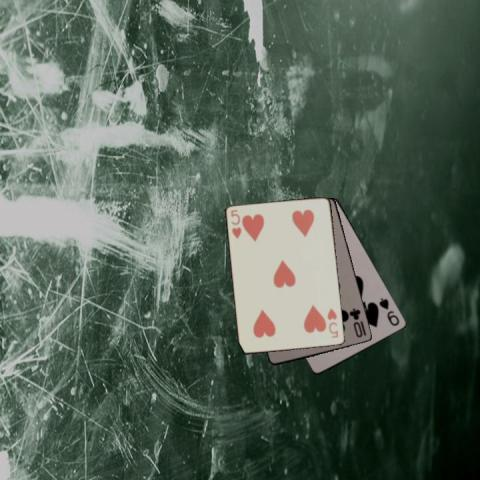10c: (347, 305, 368, 339)
5h: (228, 206, 243, 241), (325, 306, 339, 340)
9s: (376, 295, 400, 327)
